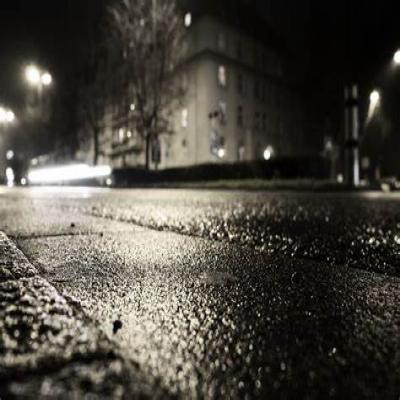iced-road: (0, 189, 400, 400)
